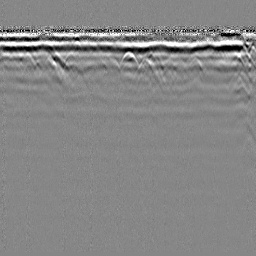cavity: (119, 50, 139, 68)
